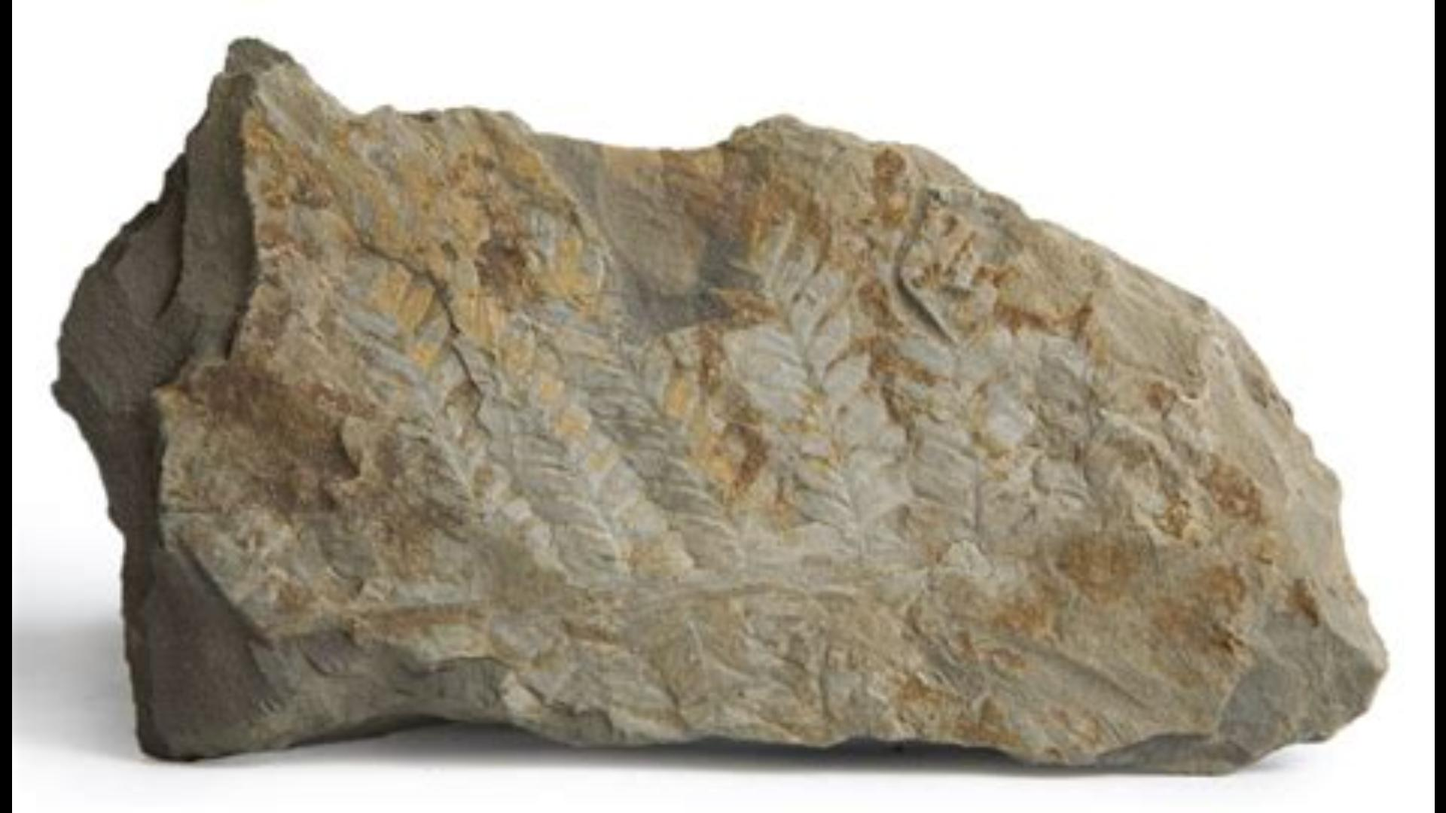rock: (56, 42, 1383, 768)
